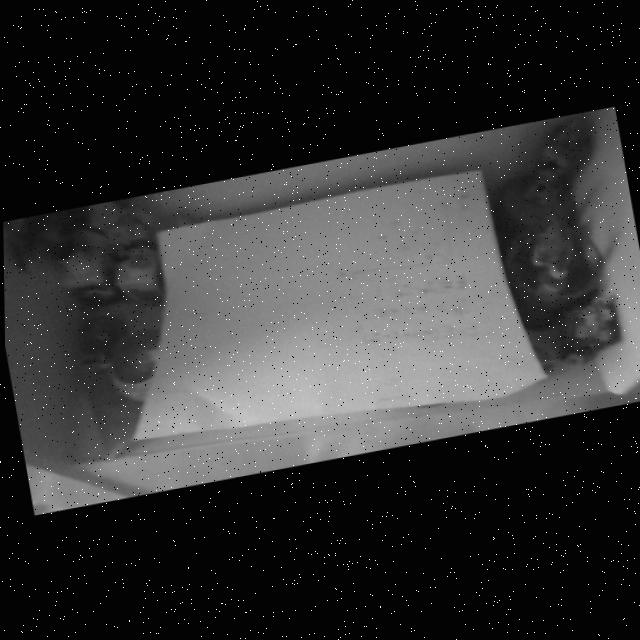document: (132, 170, 549, 441)
